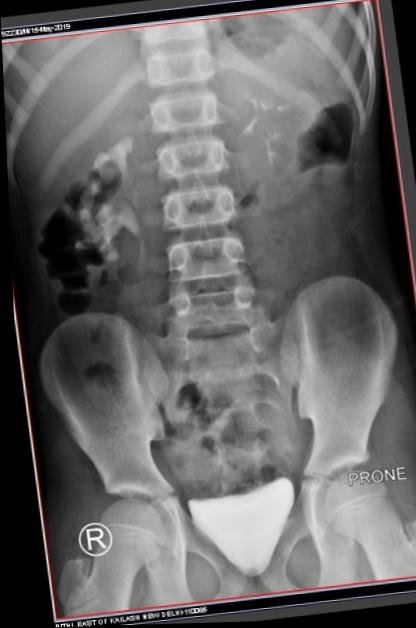bladder: (187, 488, 314, 598)
